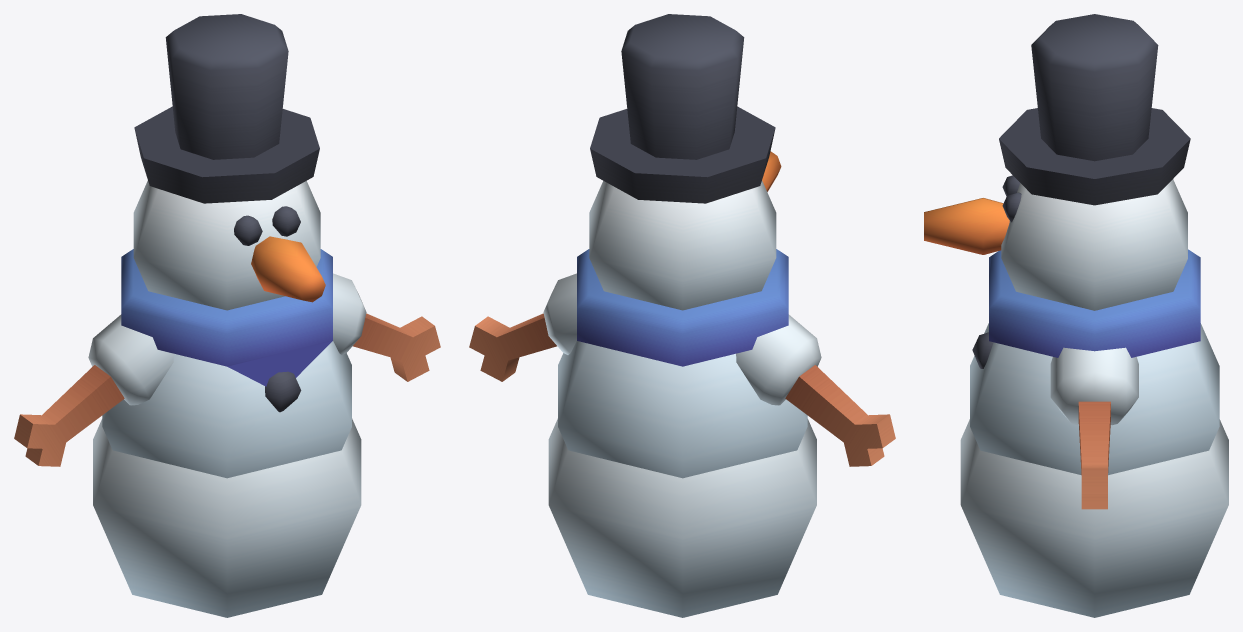
Rendered from snowman-hat.obj.
The picture shows the model from 3 angles, left to right: view 1: azimuth 30°, elevation 25°; view 2: azimuth 150°, elevation 25°; view 3: azimuth 270°, elevation 25°; orthographic projection.
Visible parts, largest first — view 1: snowman-hat; view 2: snowman-hat; view 3: snowman-hat.
Part boxes in pixels (x1,y1,x2,y2): snowman-hat: (14, 14, 440, 617); snowman-hat: (469, 14, 895, 617); snowman-hat: (924, 14, 1228, 617).
Size of the model in its own units: 1.08 by 1.36 by 0.6882.
1 material, 1 textured.
